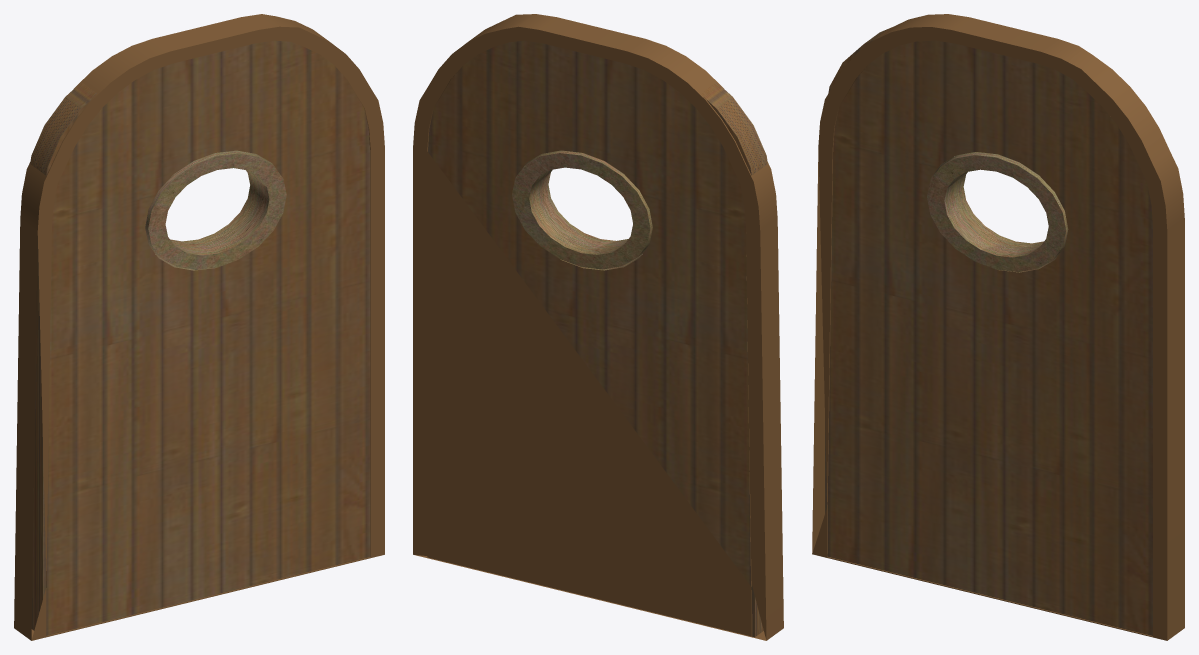
Rendered from puerta.obj.
3 views of the same model, side by side, from view 1: azimuth 30°, elevation 25°; view 2: azimuth 150°, elevation 25°; view 3: azimuth 330°, elevation 25° (orthographic).
Visible parts, largest first — view 1: rack_vino_pCube19 polySurface332, polySurface333 rack_vino_pCube19, rack_vino_pCube19 polySurface334; view 2: polySurface333 rack_vino_pCube19, rack_vino_pCube19 polySurface332, rack_vino_pCube19 polySurface334; view 3: rack_vino_pCube19 polySurface332, polySurface333 rack_vino_pCube19, rack_vino_pCube19 polySurface334.
Boxes of the visible parts, x1=… form: rack_vino_pCube19 polySurface332: x1=30, y1=40, x2=370, y2=635; polySurface333 rack_vino_pCube19: x1=14, y1=14, x2=384, y2=640; rack_vino_pCube19 polySurface334: x1=145, y1=150, x2=286, y2=269; polySurface333 rack_vino_pCube19: x1=413, y1=14, x2=783, y2=640; rack_vino_pCube19 polySurface332: x1=428, y1=40, x2=767, y2=637; rack_vino_pCube19 polySurface334: x1=512, y1=150, x2=652, y2=269; rack_vino_pCube19 polySurface332: x1=825, y1=25, x2=1152, y2=635; polySurface333 rack_vino_pCube19: x1=812, y1=14, x2=1184, y2=640; rack_vino_pCube19 polySurface334: x1=927, y1=152, x2=1068, y2=271.
Size of the model in its own units: 1.33 by 1.99 by 0.1251.
Materials: 3 (3 with a texture image).
